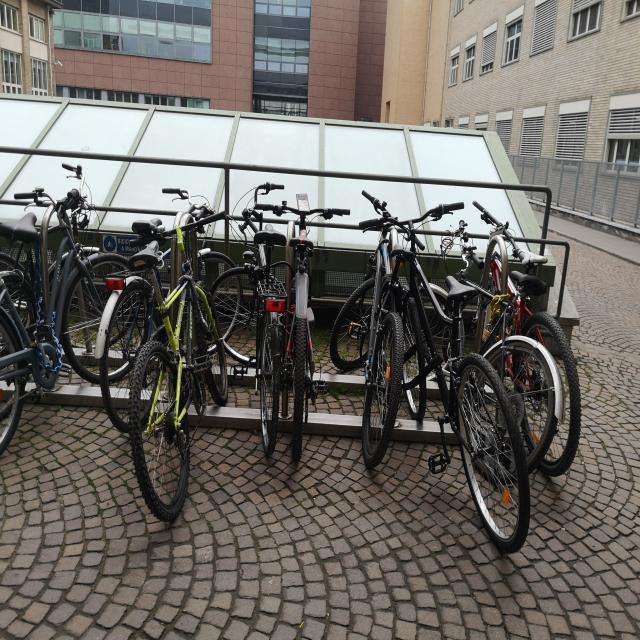Bicycle: (393, 200, 516, 577), (0, 168, 137, 461), (102, 208, 245, 430), (136, 204, 225, 533), (454, 208, 556, 484), (502, 206, 594, 438), (348, 162, 408, 480), (273, 170, 327, 474), (241, 183, 281, 449)
